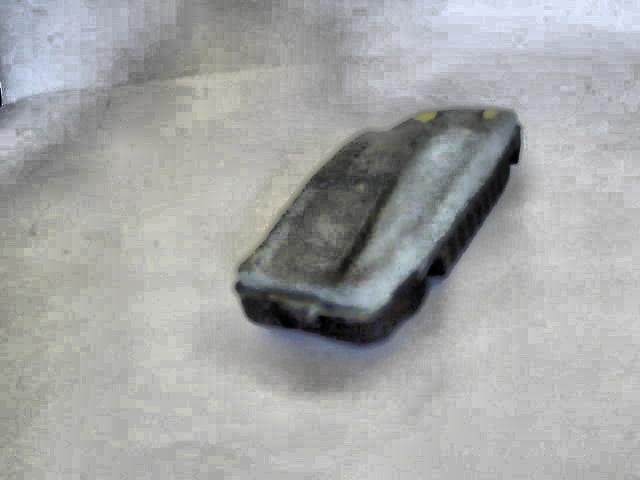normal_car: (228, 105, 523, 349)
